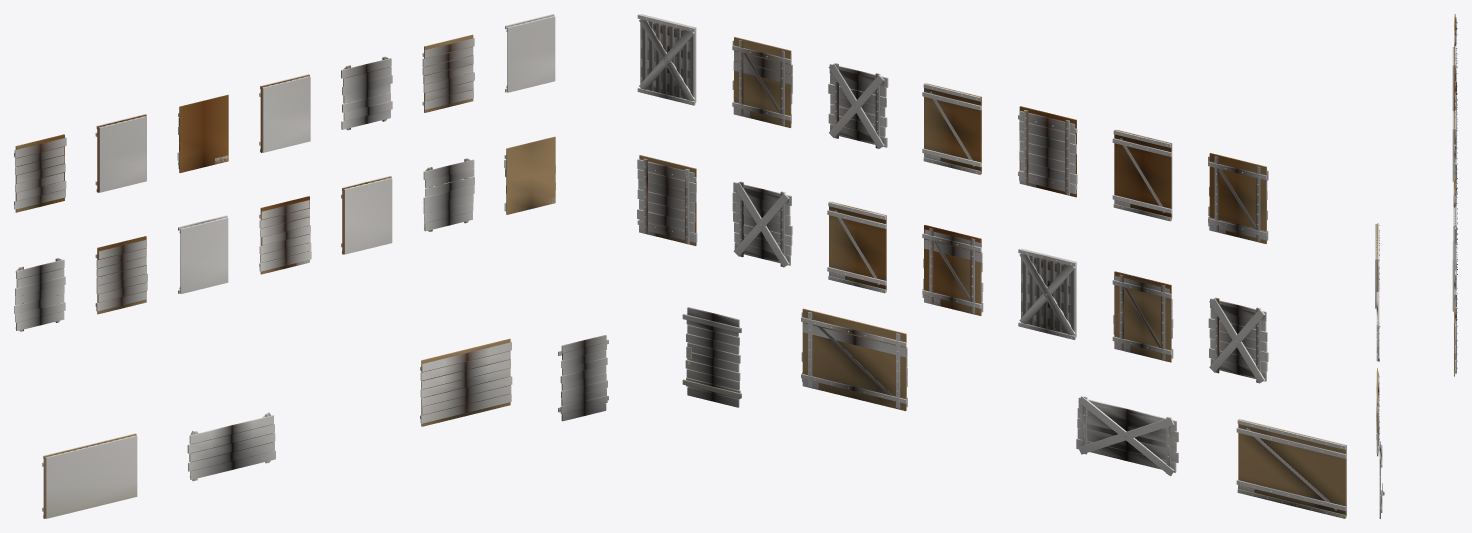
File: boards_market_habitat.glb
3 renders of one model, left to right at view 1: azimuth 30°, elevation 25°; view 2: azimuth 150°, elevation 25°; view 3: azimuth 270°, elevation 25°, orthographic. The views are drawn at different scales.
Visible parts, largest first — view 1: boards_market_habitat; view 2: boards_market_habitat; view 3: boards_market_habitat.
Part boxes in pixels (box(x1,y1,x2,y2)): boards_market_habitat: box(14, 14, 608, 518); boards_market_habitat: box(637, 14, 1346, 518); boards_market_habitat: box(1375, 14, 1457, 518).
Bounding box in the file's own units: 15.63 × 9.54 × 2.46.
